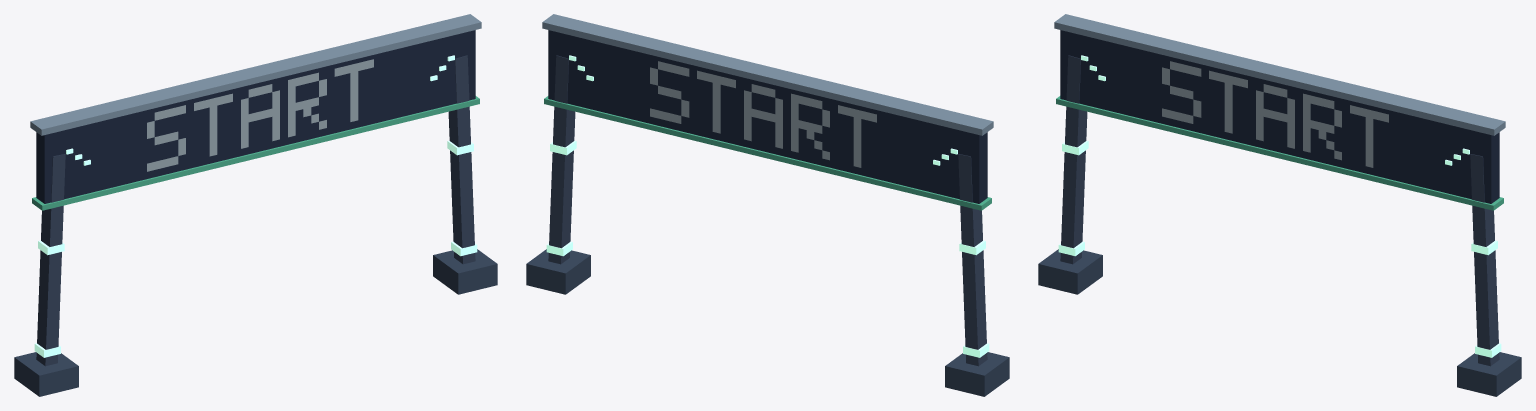
File: start.glb
The picture shows the model from 3 angles, left to right: view 1: azimuth 30°, elevation 25°; view 2: azimuth 150°, elevation 25°; view 3: azimuth 330°, elevation 25°; orthographic projection.
Visible parts, largest first — view 1: start; view 2: start; view 3: start.
Boxes of the visible parts, x1=… form: start: x1=14, y1=14, x2=497, y2=396; start: x1=526, y1=14, x2=1009, y2=396; start: x1=1038, y1=14, x2=1521, y2=396.
Bounding box in the file's own units: 9.89 × 5.36 × 0.94.
